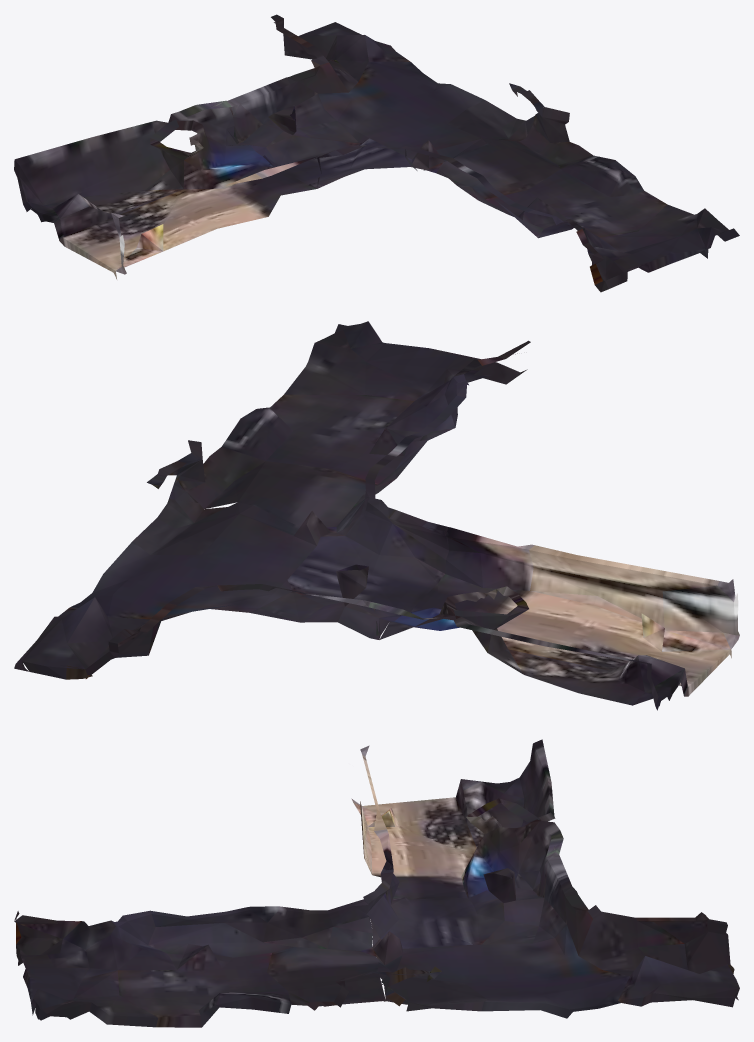
3 renders of one model, top to bottom at view 1: azimuth 30°, elevation 25°; view 2: azimuth 150°, elevation 25°; view 3: azimuth 270°, elevation 25°, orthographic. The views are drawn at different scales.
Visible parts, largest first — view 1: Mesh_0; view 2: Mesh_0; view 3: Mesh_0.
Boxes of the visible parts, bbox=[...] form: Mesh_0: bbox=[14, 14, 739, 292]; Mesh_0: bbox=[14, 321, 739, 710]; Mesh_0: bbox=[14, 739, 739, 1027].
Size of the model in its own units: 32.78 by 4.46 by 39.31.
1 material, 1 textured.
